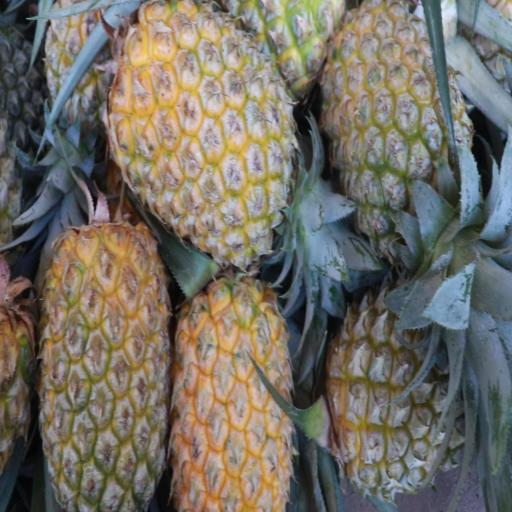------------------------------: (327, 6, 468, 243), (326, 283, 461, 494), (43, 0, 128, 139)
Pineapple - v8 v1: (115, 0, 296, 265), (40, 227, 166, 504), (172, 280, 291, 509)
